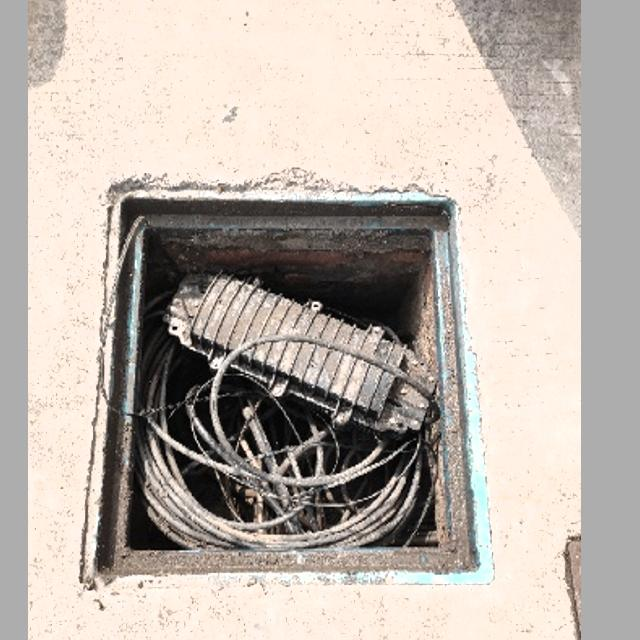lose: (76, 184, 496, 583)
